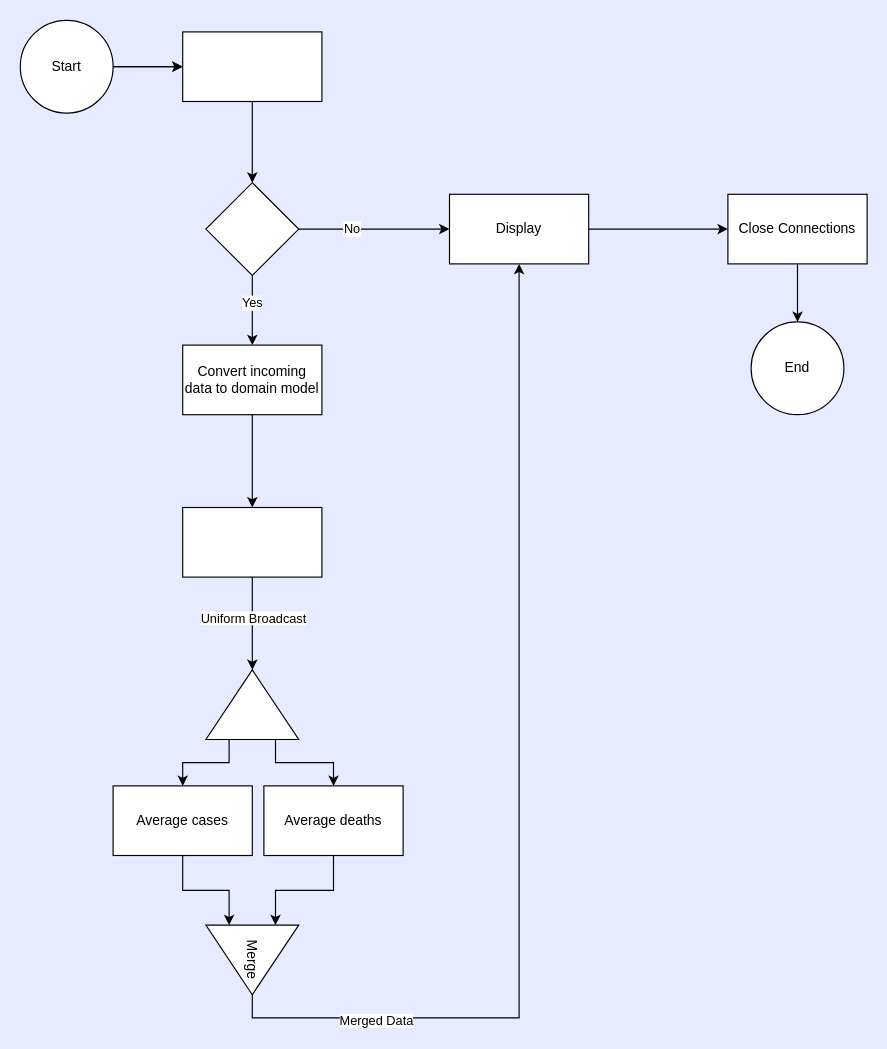
The diagram is 887 pixels wide and 1049 high, and some of its shapes have lost their labels. The centre of each missing label's shape, as x and y in pixels:
"broadcast" goes at (x=252, y=704).
"Download covidData from external source" goes at (x=252, y=66).
"download success?" goes at (x=252, y=229).
"Group by country" goes at (x=252, y=541).
